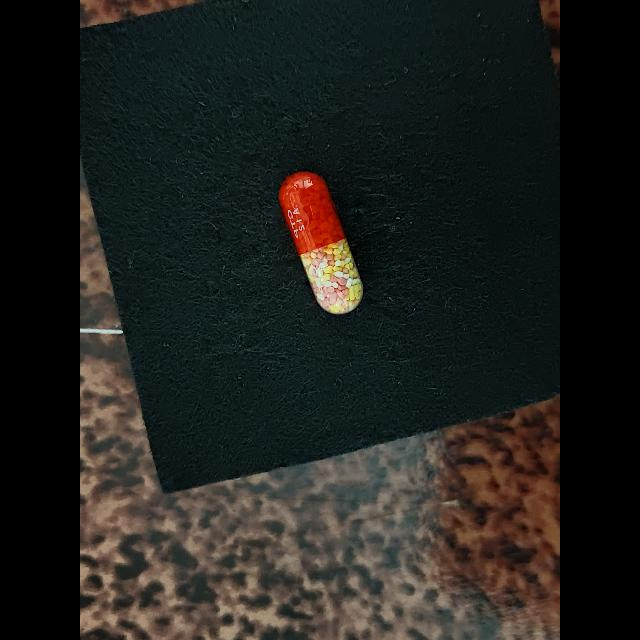Intact Capsule: (278, 171, 363, 315)
